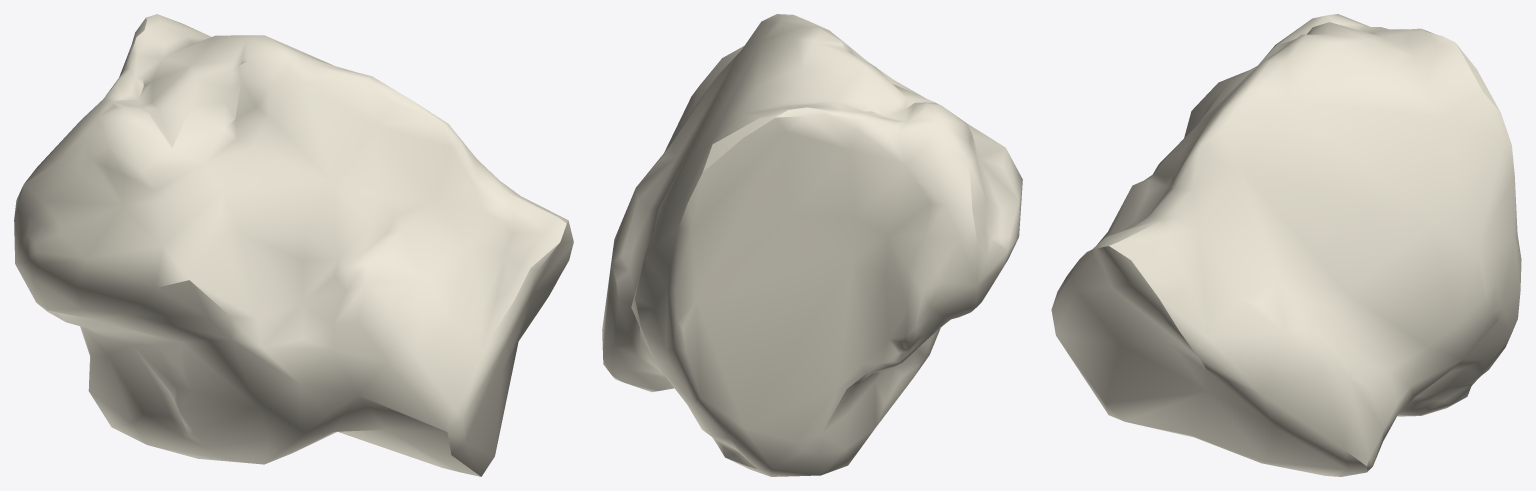
Rendered from fma24529_fj3258.glb.
The picture shows the model from 3 angles, left to right: view 1: azimuth 30°, elevation 25°; view 2: azimuth 150°, elevation 25°; view 3: azimuth 270°, elevation 25°; orthographic projection. The views are drawn at different scales.
Visible parts, largest first — view 1: FMA24529_FJ3258; view 2: FMA24529_FJ3258; view 3: FMA24529_FJ3258.
Boxes of the visible parts, bbox=[...] form: FMA24529_FJ3258: bbox=[14, 14, 573, 476]; FMA24529_FJ3258: bbox=[602, 14, 1022, 476]; FMA24529_FJ3258: bbox=[1051, 14, 1521, 476].
Bounding box in the file's own units: 0.0332 × 0.0297 × 0.0335.
